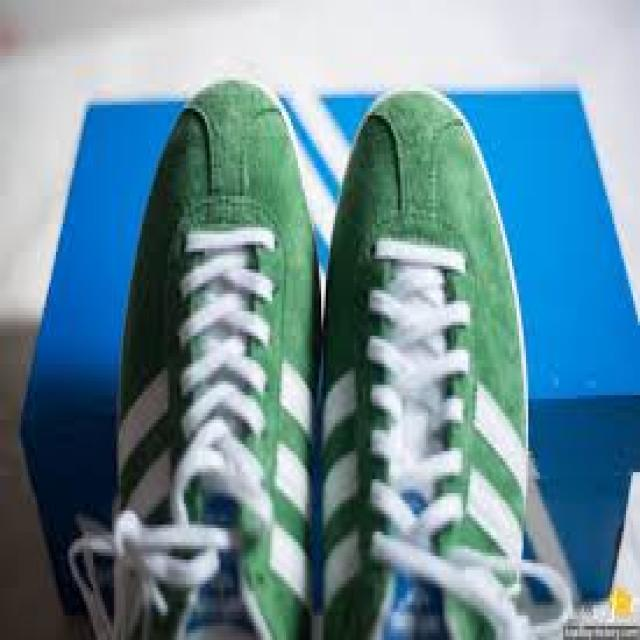shoe: (67, 80, 314, 640), (317, 87, 528, 640)
